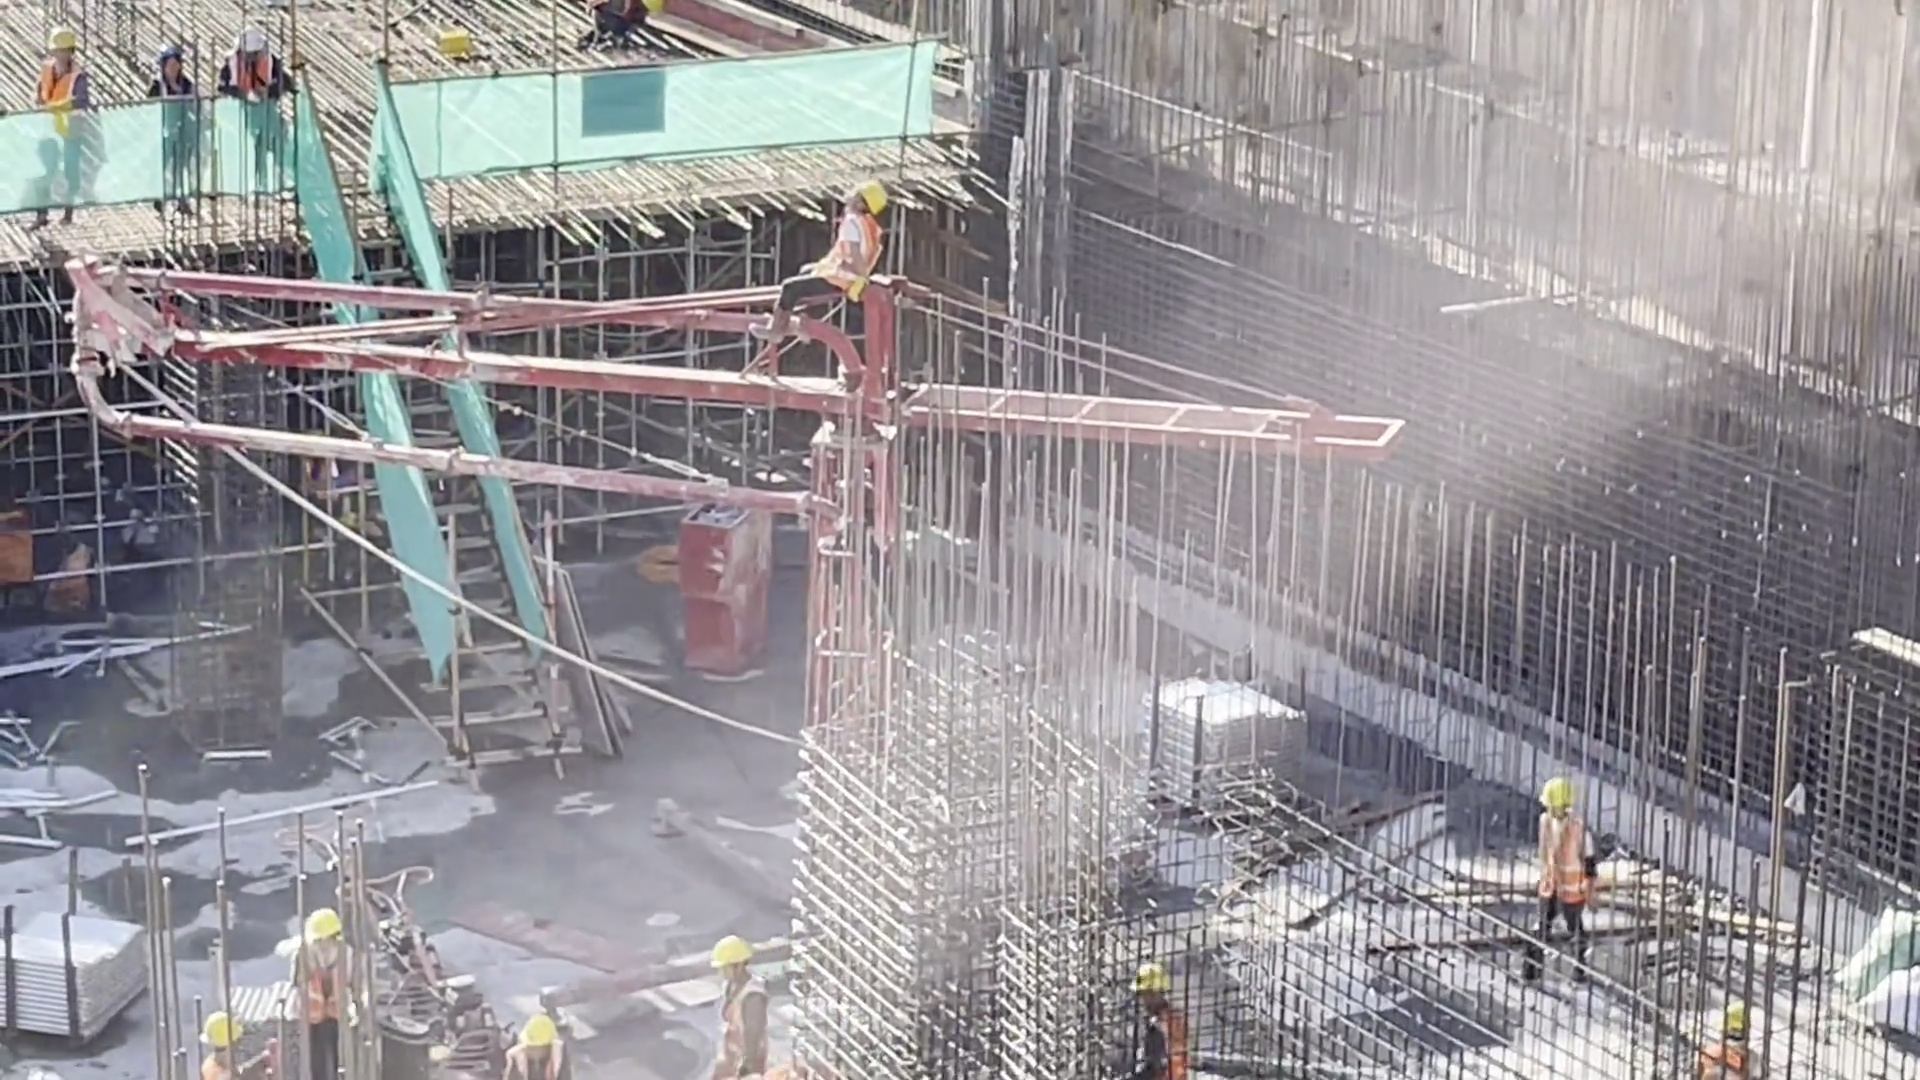helmet: (721, 932, 766, 978), (1544, 778, 1593, 815), (848, 178, 907, 204), (310, 909, 348, 950), (1718, 995, 1764, 1027), (1133, 969, 1178, 1001), (240, 23, 282, 56), (210, 1009, 243, 1048), (523, 1015, 555, 1053), (48, 26, 84, 52), (156, 45, 182, 68)
person: (756, 165, 956, 390), (1532, 768, 1637, 983), (219, 24, 323, 219), (132, 45, 229, 227), (32, 9, 100, 237), (697, 931, 800, 1080), (293, 901, 371, 1076), (1129, 943, 1222, 1080), (485, 1008, 569, 1080), (186, 1001, 249, 1080), (579, 1, 662, 57), (1697, 1002, 1752, 1080)
scaffold: (1139, 679, 1311, 832), (18, 894, 158, 1026), (201, 978, 432, 1054)
vest: (714, 977, 770, 1078), (1533, 822, 1600, 906), (814, 215, 871, 292), (43, 63, 113, 122), (1140, 1010, 1198, 1080), (296, 940, 337, 1035), (227, 59, 284, 102), (152, 69, 203, 111), (1712, 1031, 1757, 1078)
